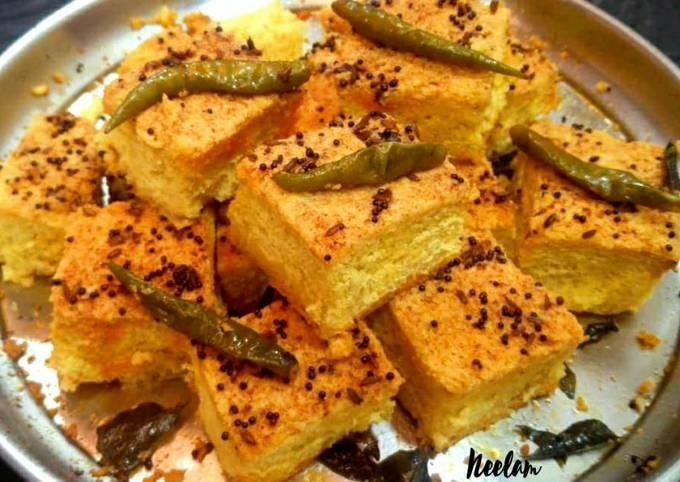dhokla: (2, 0, 680, 482)
